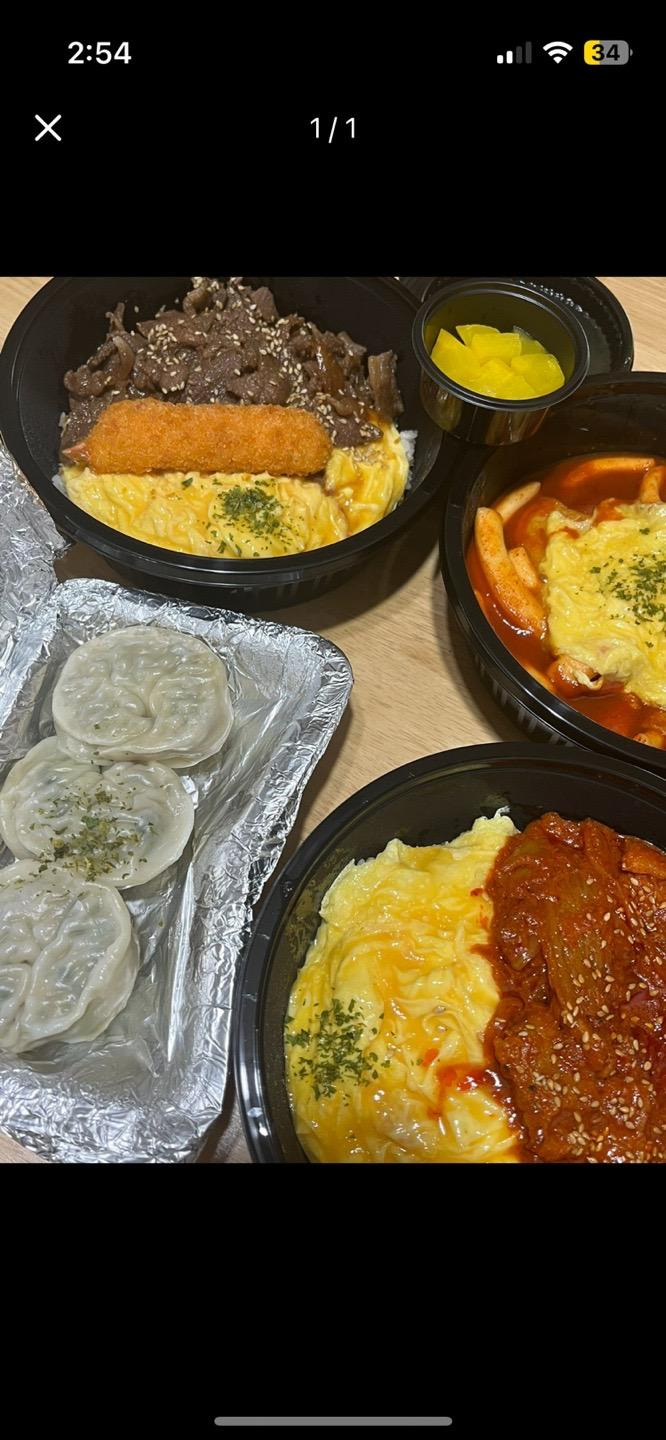Lunch Box: (0, 441, 352, 1162), (237, 745, 665, 1163), (0, 277, 444, 610), (440, 372, 665, 779), (413, 278, 589, 445)
